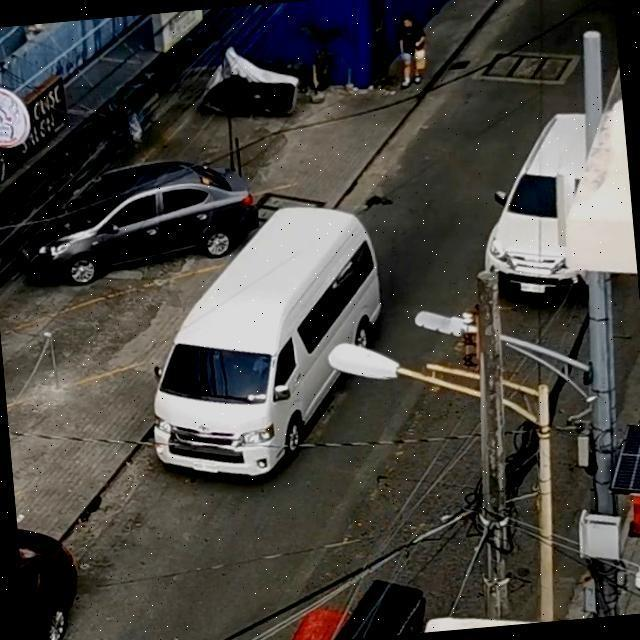Tricycle: (229, 558, 436, 640)
